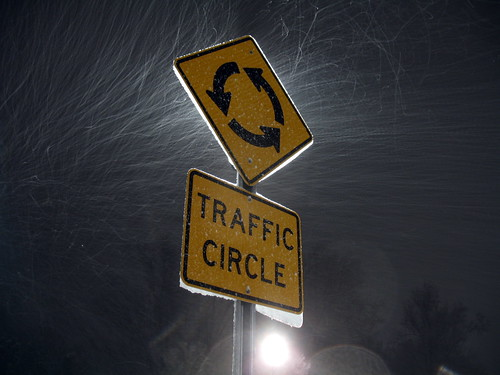sign: (159, 21, 339, 345)
